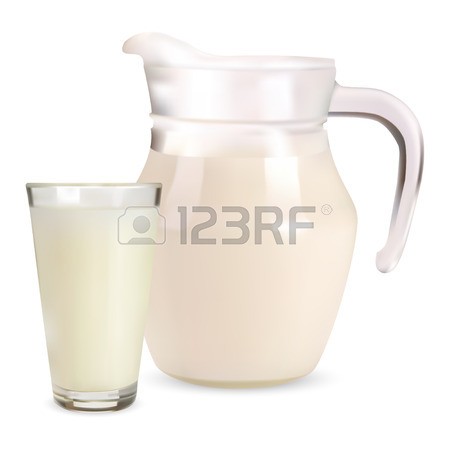glass of milk: (24, 183, 160, 413)
